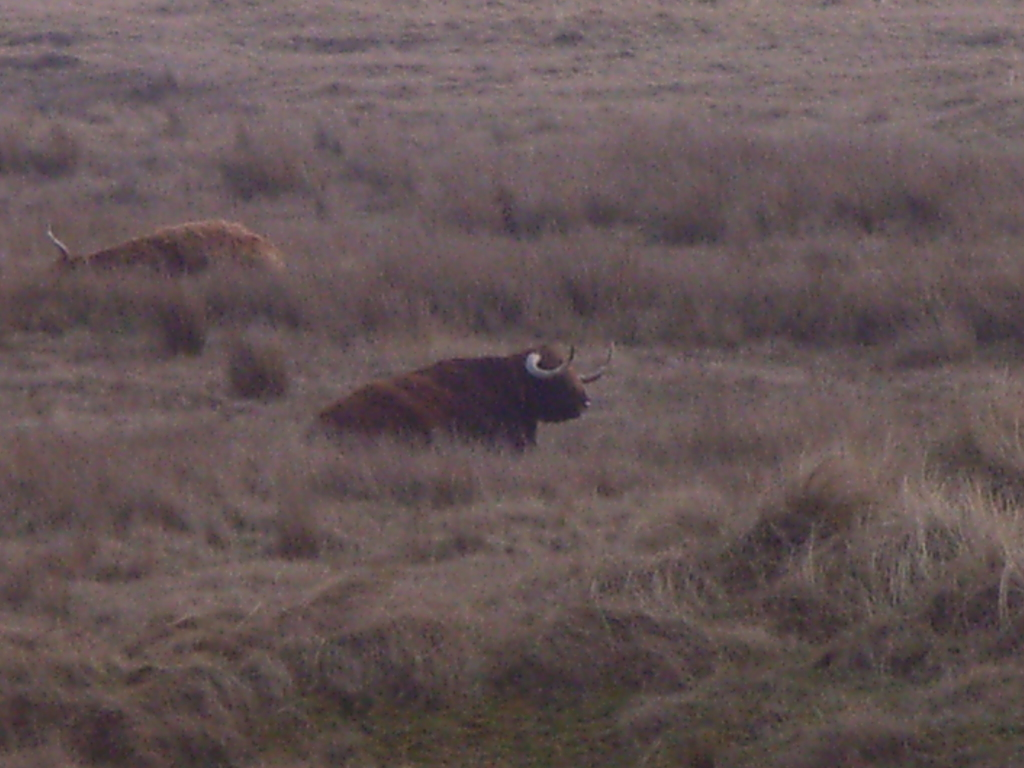Animal: (330, 334, 632, 470), (50, 229, 282, 273)
